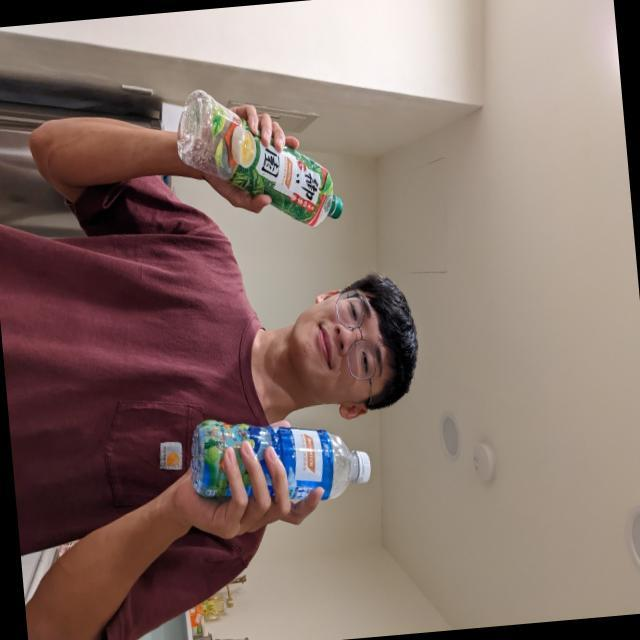good: (169, 86, 348, 254), (180, 399, 382, 527)
